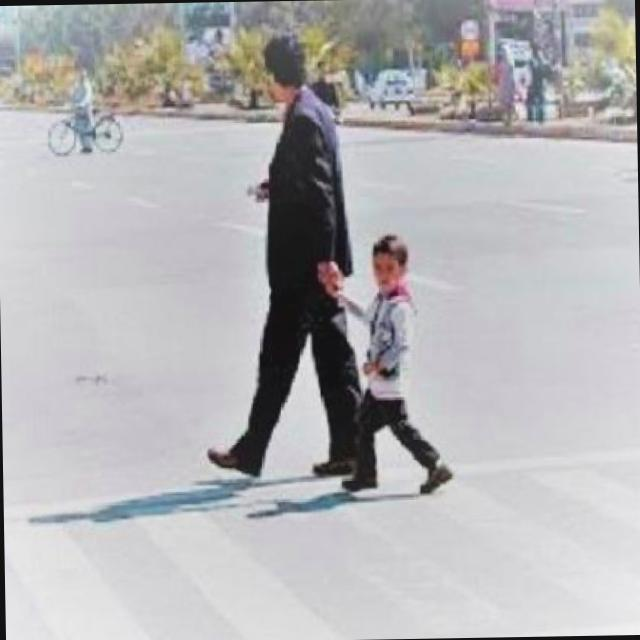Person: (195, 29, 358, 479), (331, 231, 451, 496)
